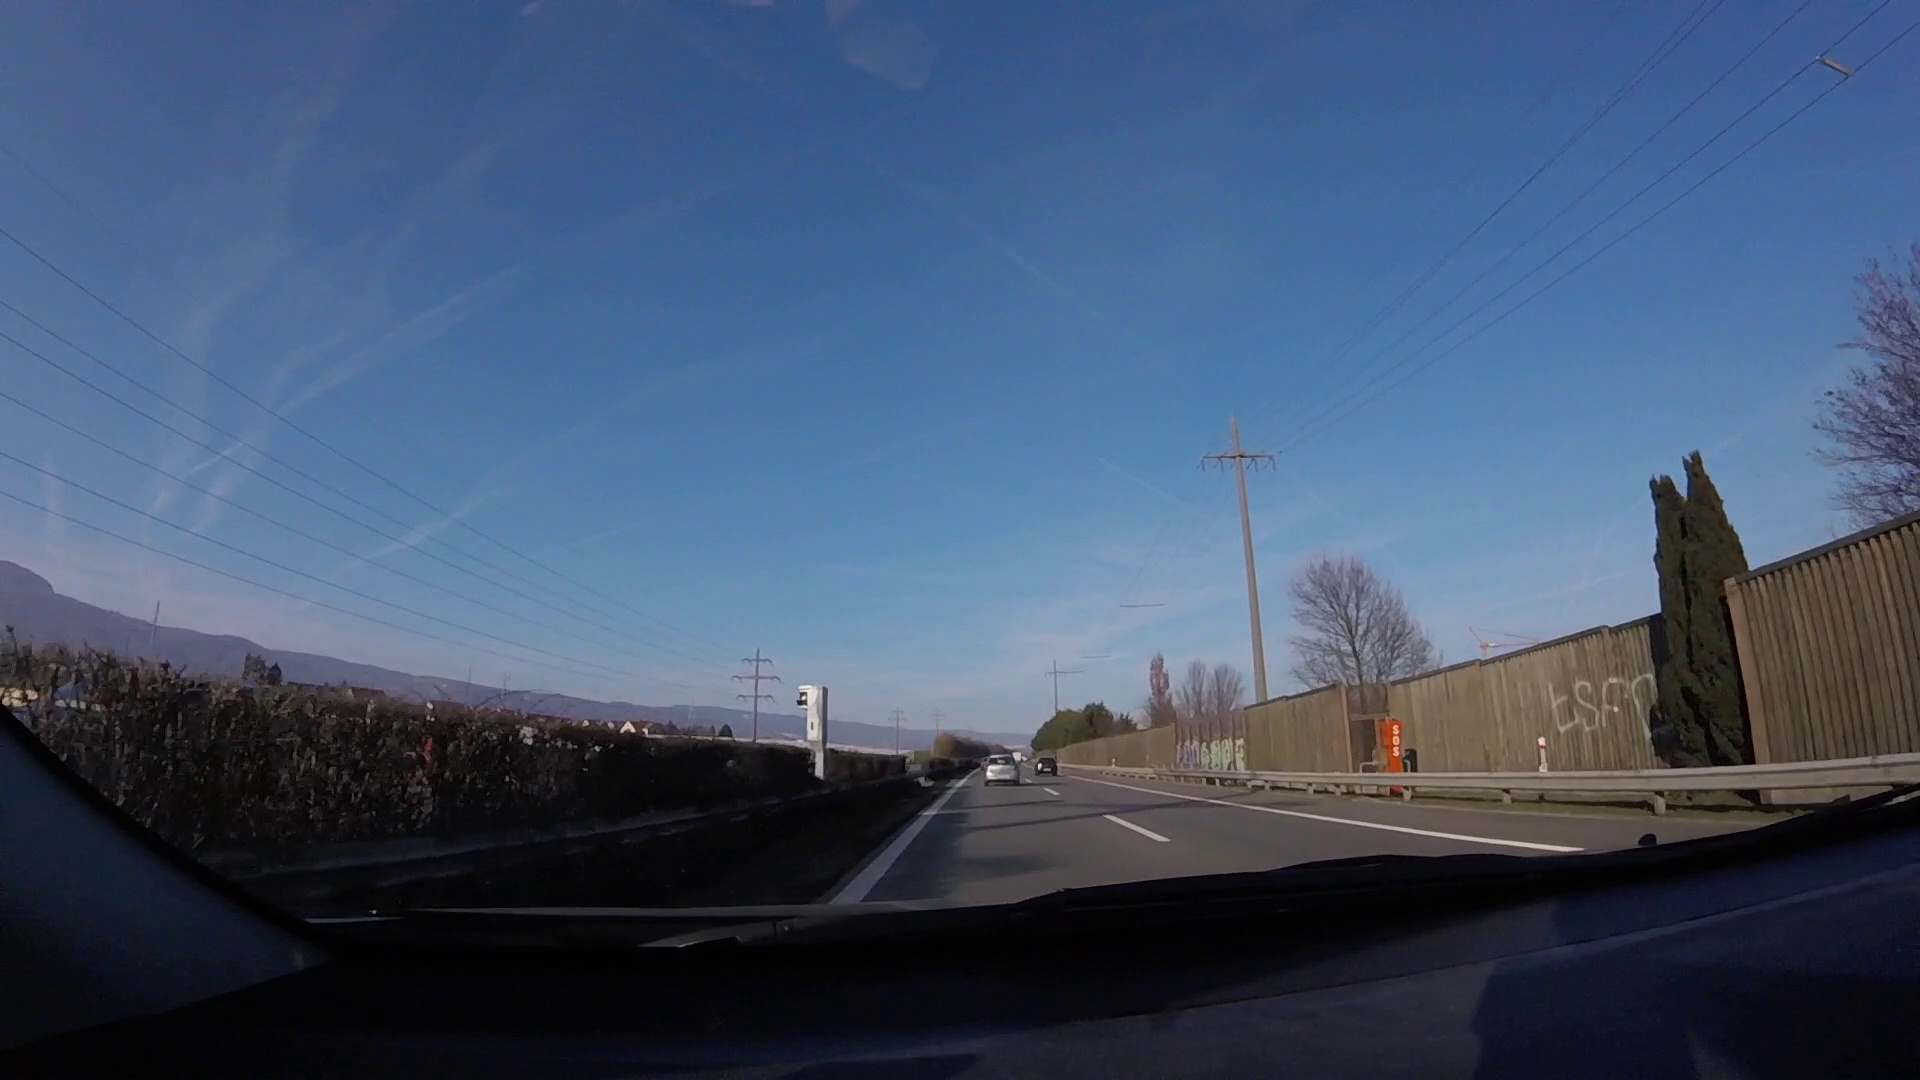radar: (795, 683, 832, 783)
